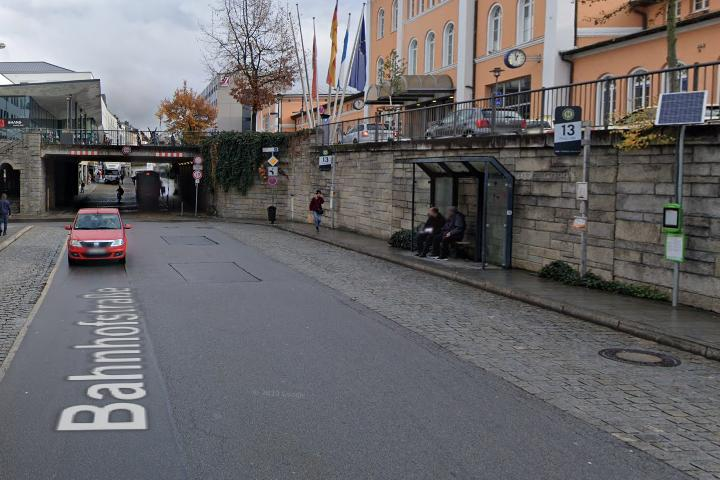traffic_sign: (267, 155, 279, 167), (267, 167, 279, 177)
vehicle: (419, 103, 529, 147), (62, 206, 134, 266), (332, 120, 399, 149)
